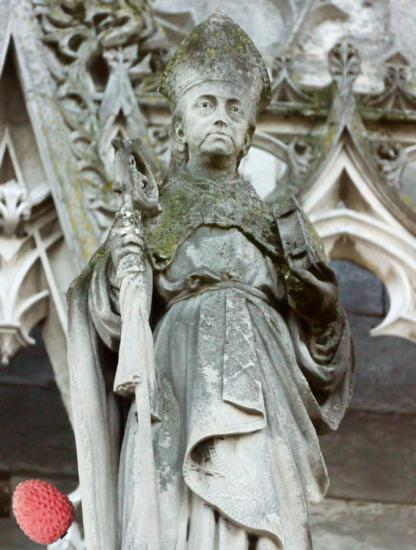Lychee: (7, 476, 77, 546)
